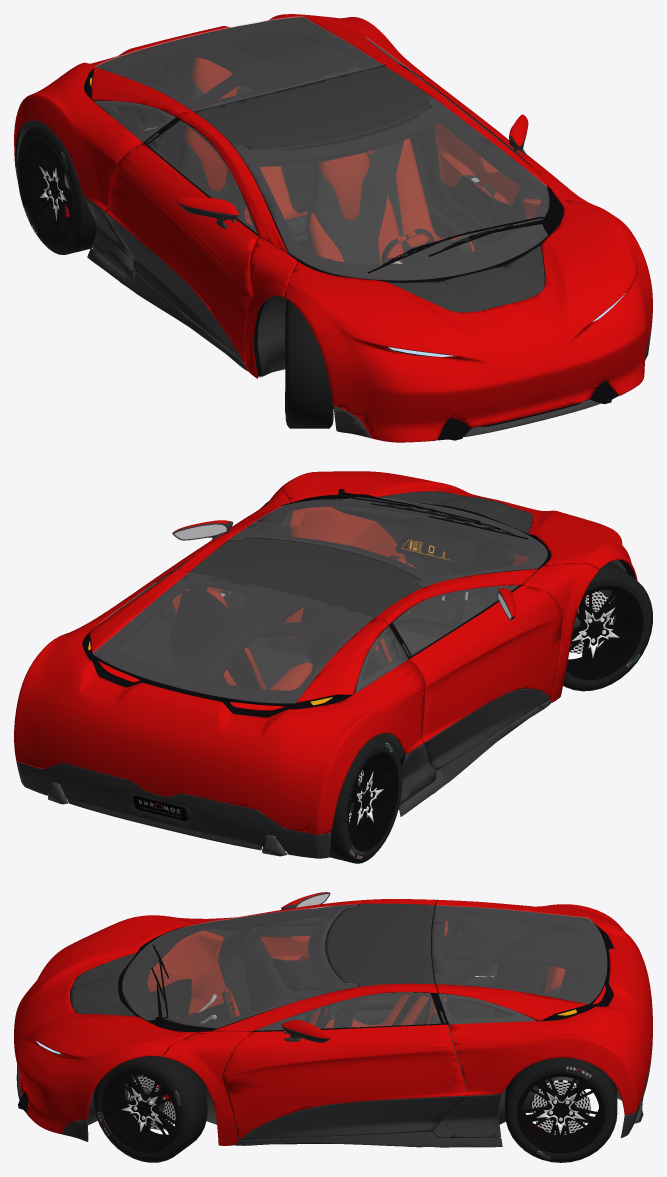
File: car.gltf
The picture shows the model from 3 angles, top to bottom: view 1: azimuth 30°, elevation 25°; view 2: azimuth 150°, elevation 25°; view 3: azimuth 270°, elevation 25°; orthographic projection. The views are drawn at different scales.
Parts seen in each view (by area): view 1: BodyHood, BodyWindshield, BodyRearwindow, BodyDoorRColor1, BodyRearPanelsColor1, BodyRoofPanel, BodyWindshieldGasket, InteriorSeatsColor1, InteriorSeatsColor2, BodyPillars, InteriorPillar, InteriorRearHatch (+21 smaller); view 2: BodyRearPanelsColor1, BodyRearwindow, BodyWindshield, BodyDoorRColor1, BodyPanelsColor2, BodyRoofPanel, BodyHood, InteriorRearHatch, BodyPillars, InteriorPillar, BodyWindshieldGasket, InteriorDashMid (+22 smaller); view 3: BodyRearPanelsColor1, BodyWindshield, BodyDoorLColor1, BodyHood, BodyRearwindow, BodyRoofPanel, BodyPillars, BodyWindshieldGasket, BodyDoorLColor2, BodyPanelsColor2, WheelFrontL, InteriorRearHatch (+25 smaller).
Boxes of the visible parts, x1,y1,x2,y2 form: BodyHood: (283, 198, 652, 442); BodyWindshield: (234, 98, 549, 280); BodyRearwindow: (95, 16, 382, 110); BodyDoorRColor1: (104, 143, 257, 363); BodyRearPanelsColor1: (14, 14, 428, 210); BodyRoofPanel: (193, 65, 432, 150); BodyWindshieldGasket: (234, 99, 563, 282); InteriorSeatsColor1: (185, 57, 475, 264); InteriorSeatsColor2: (180, 78, 472, 264); BodyPillars: (176, 61, 598, 378); InteriorPillar: (158, 37, 434, 168); InteriorRearHatch: (93, 17, 383, 117); BodyRearPanelsColor1: (14, 569, 425, 834); BodyRearwindow: (92, 573, 373, 703); BodyWindshield: (229, 497, 547, 587); BodyDoorRColor1: (409, 585, 562, 742); BodyPanelsColor2: (16, 700, 550, 858); BodyRoofPanel: (189, 537, 422, 617); BodyHood: (279, 471, 637, 580); InteriorRearHatch: (93, 573, 386, 707); BodyPillars: (175, 489, 599, 702); InteriorPillar: (174, 574, 417, 682); BodyWindshieldGasket: (230, 497, 550, 587); InteriorDashMid: (331, 503, 528, 622); BodyRearPanelsColor1: (436, 899, 652, 1115); BodyWindshield: (122, 904, 357, 1028); BodyDoorLColor1: (222, 1024, 467, 1139); BodyHood: (14, 915, 196, 1133); BodyRearwindow: (432, 905, 606, 1003); BodyRoofPanel: (326, 903, 434, 986); BodyPillars: (163, 899, 437, 1145); BodyWindshieldGasket: (118, 905, 357, 1032); BodyDoorLColor2: (240, 1096, 467, 1140); BodyPanelsColor2: (16, 1045, 652, 1147); WheelFrontL: (93, 1054, 207, 1162); InteriorRearHatch: (431, 905, 606, 1020).
Bounding box in the file's own units: 2.54 × 1.15 × 4.36.
Materials: 23 (6 with a texture image).
